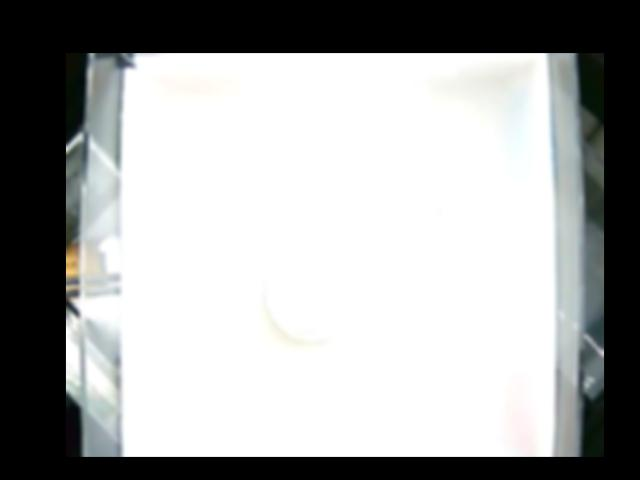Cup: (263, 238, 366, 342)
